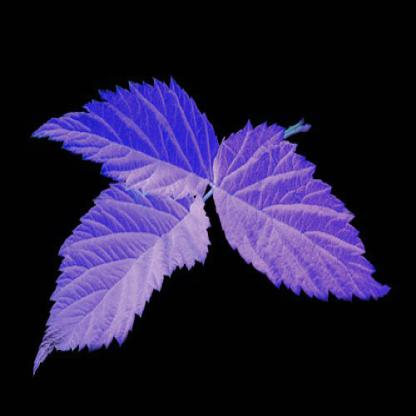Raspberry leaf: (24, 176, 217, 378), (213, 118, 396, 308), (30, 77, 217, 193)
